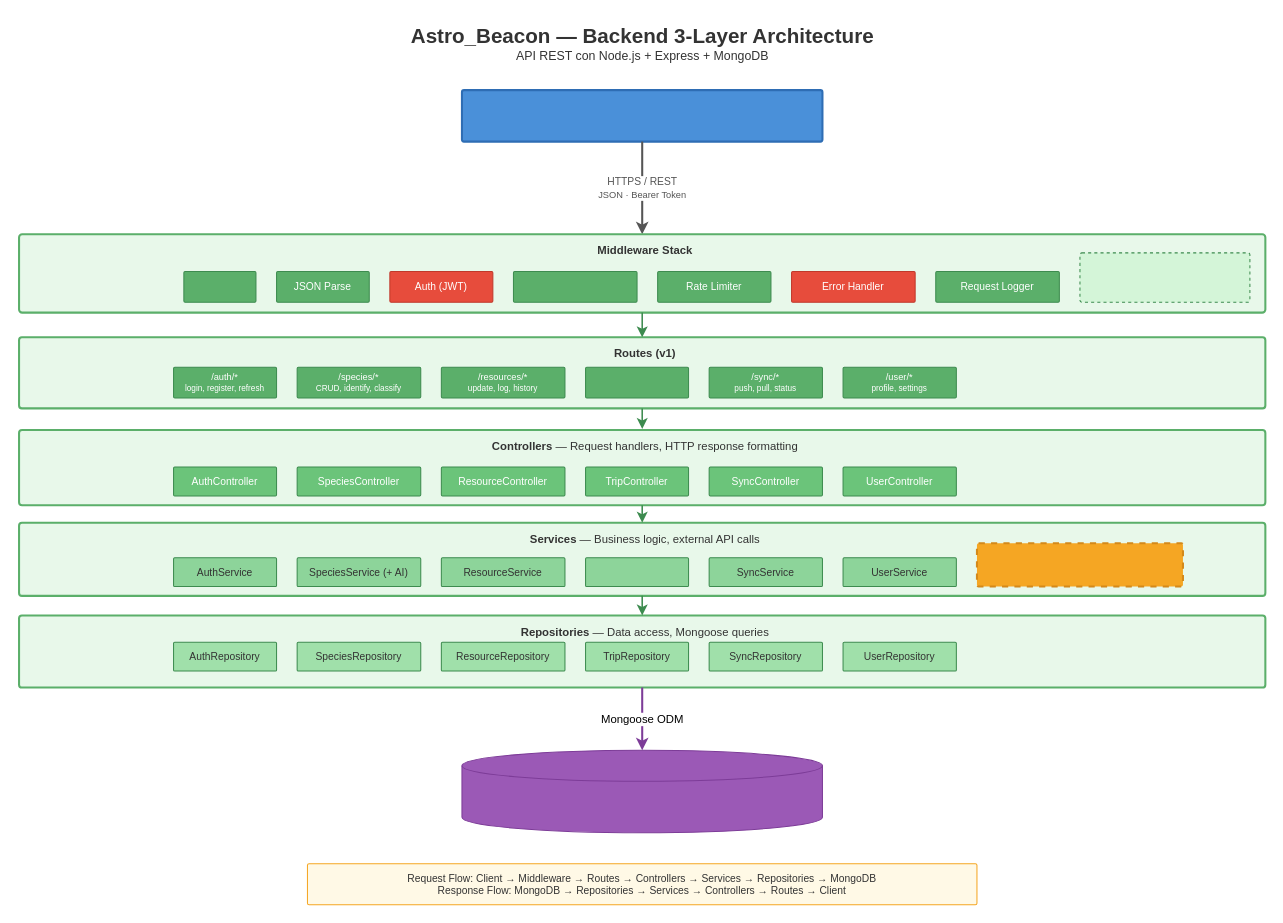
This 1283x923 diagram has some shape labels left out. The centre of each missing label's shape, as x and y in pixels:
"/trips/* start, end, track" goes at [637,382].
"CORS" goes at [219,286].
"MongoDB users · species · resources · trips · sync_queue" goes at [641,791].
"TripService" goes at [637,572].
"Validation (Zod)" goes at [574,286].
"📄 Swagger / OpenAPI Documentation Auto-generated from JSDoc annotations" goes at [1164,277].
"📱 Mobile App (React Native) axios · JWT Token · Request/Response" goes at [641,115].
"🤖 OpenAI GPT-4o Vision Image Classification API" goes at [1079,564].
